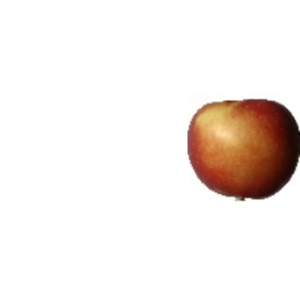maçã braeburn: (185, 98, 300, 205)
